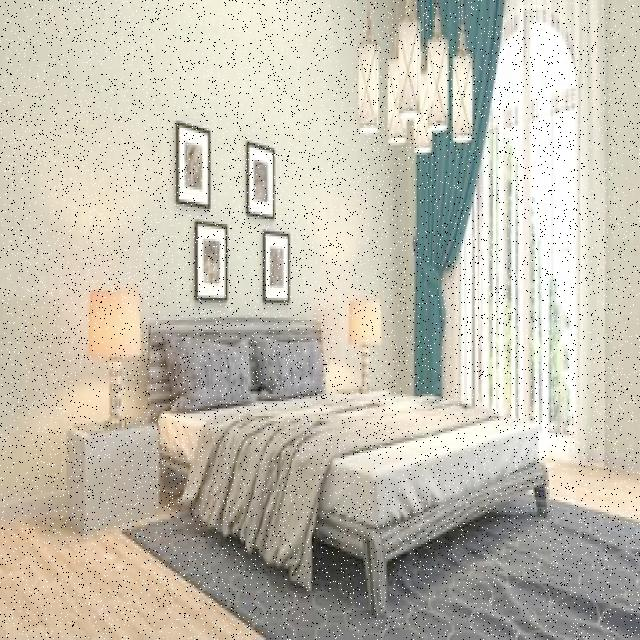bed: (159, 302, 547, 564)
